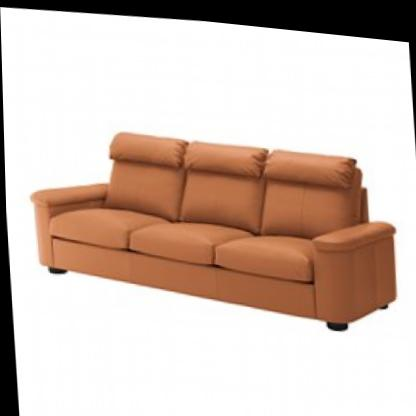Sofa: (22, 95, 404, 355)
